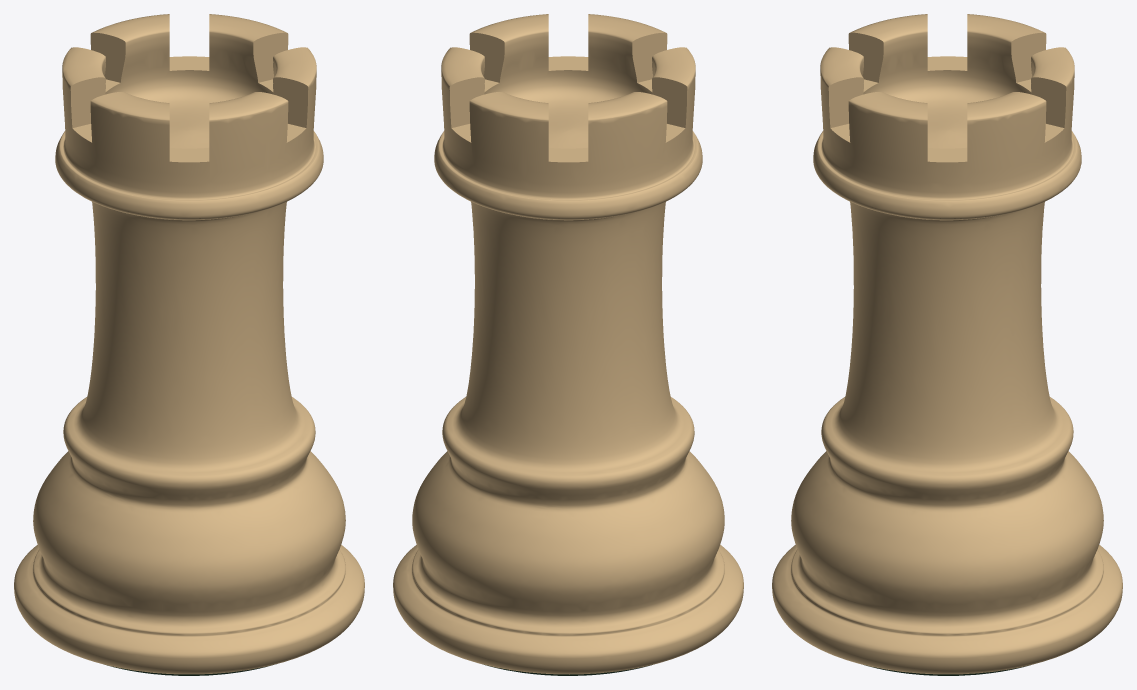
The model's file is rook.glb.
3 views of the same model, side by side, from view 1: azimuth 30°, elevation 25°; view 2: azimuth 150°, elevation 25°; view 3: azimuth 270°, elevation 25° (orthographic).
Parts seen in each view (by area): view 1: Piece_Rook; view 2: Piece_Rook; view 3: Piece_Rook.
Boxes of the visible parts, x1,y1,x2,y2 form: Piece_Rook: (14, 14, 364, 675); Piece_Rook: (393, 14, 743, 675); Piece_Rook: (772, 14, 1122, 675).
Bounding box in the file's own units: 0.0354 × 0.0611 × 0.0354.
